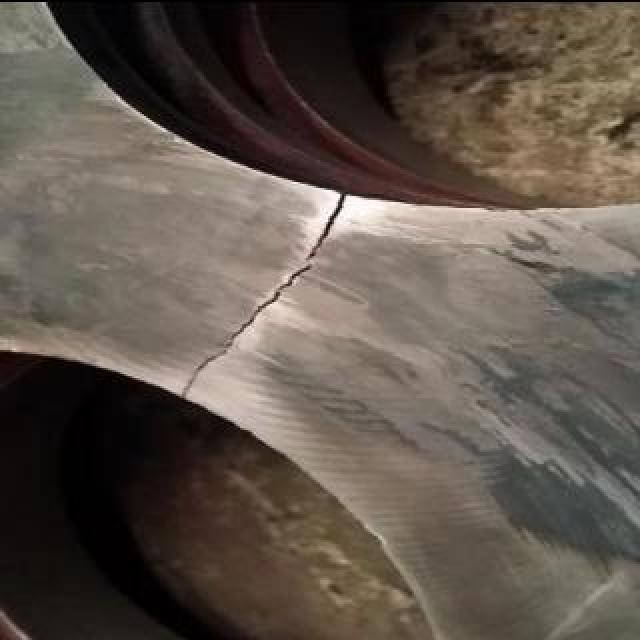crack: (170, 181, 366, 401)
